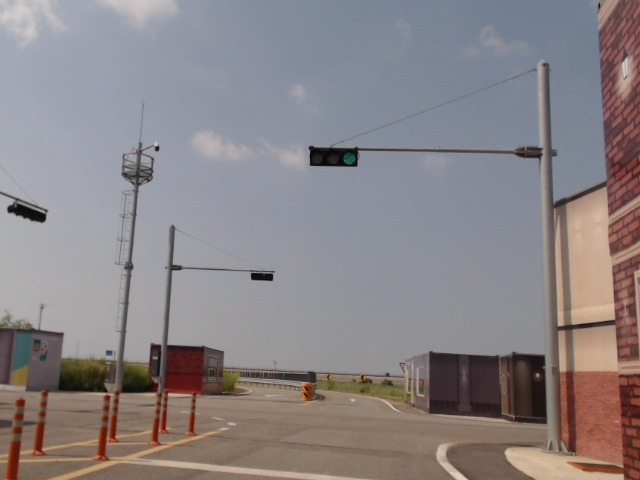green_3: (308, 147, 358, 167)
